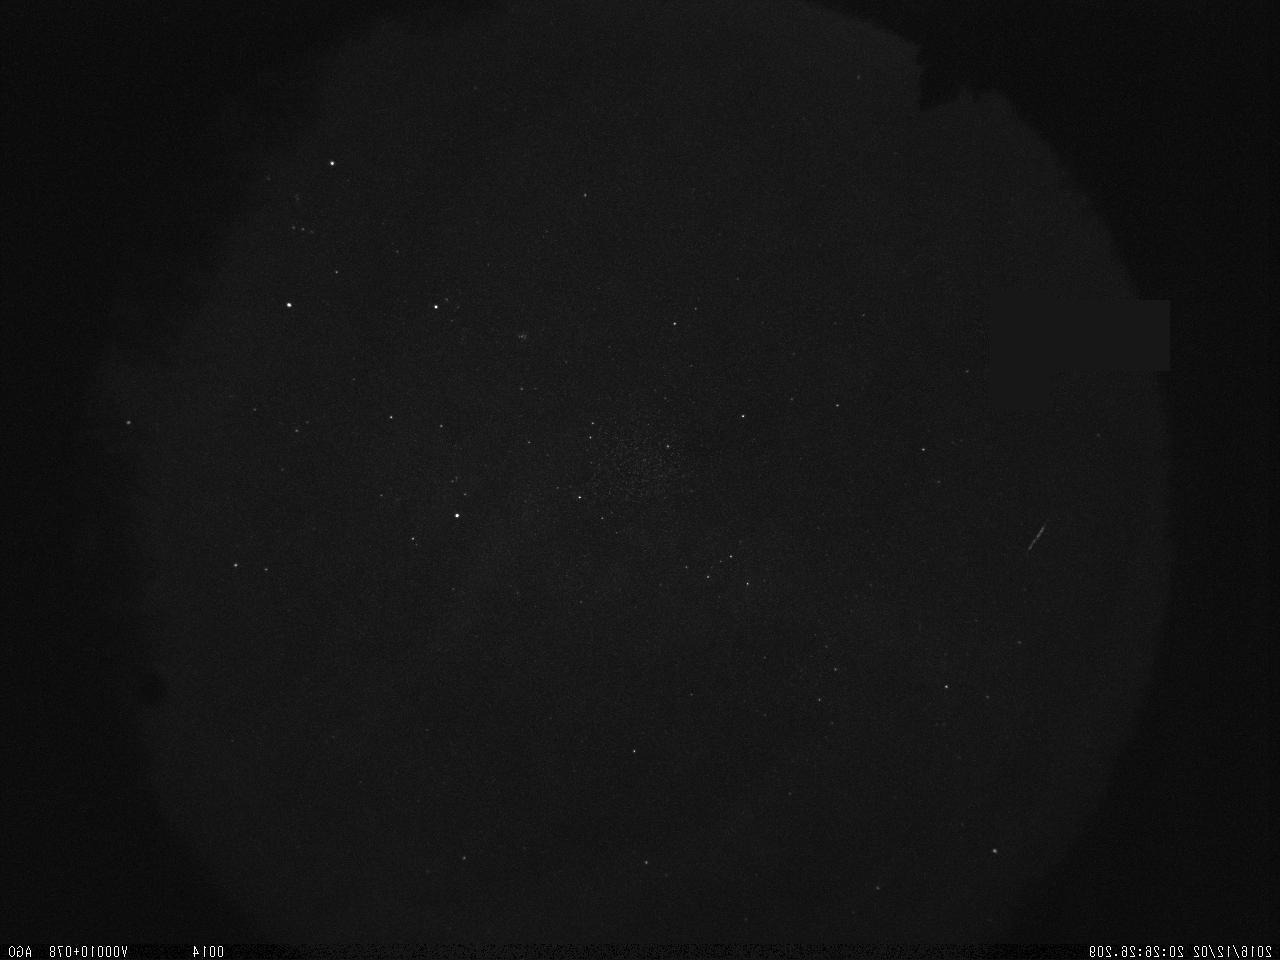meteor: (1008, 504, 1060, 561)
